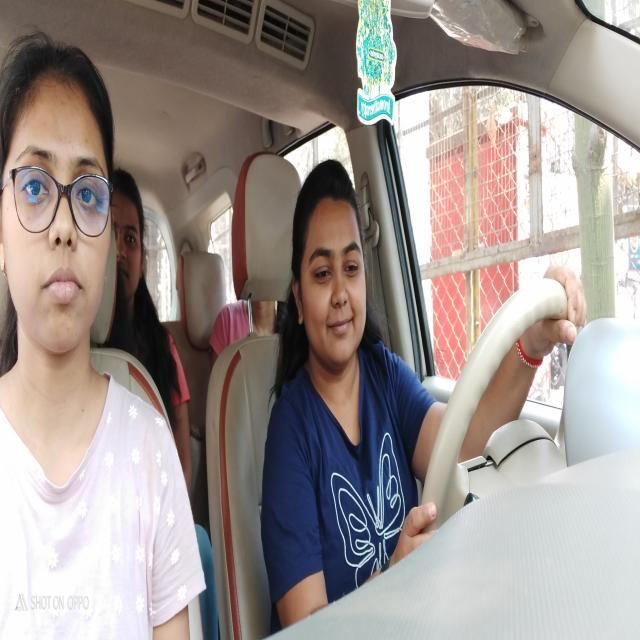person: (0, 32, 115, 374), (289, 154, 369, 372), (108, 165, 152, 329)
